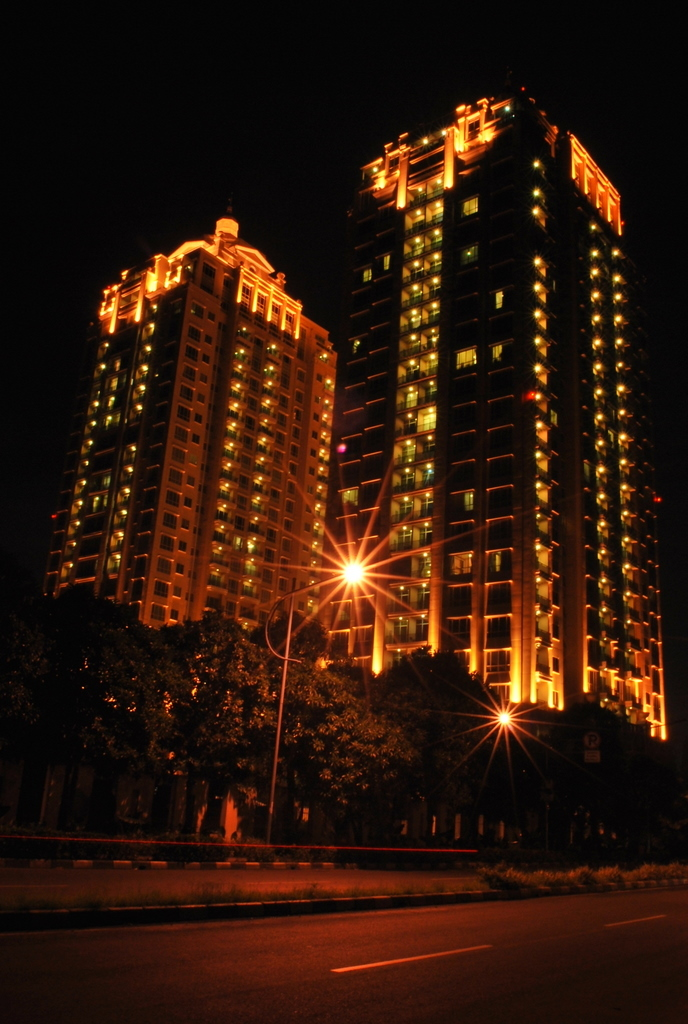Tree: (10, 574, 356, 821), (327, 641, 687, 865)
